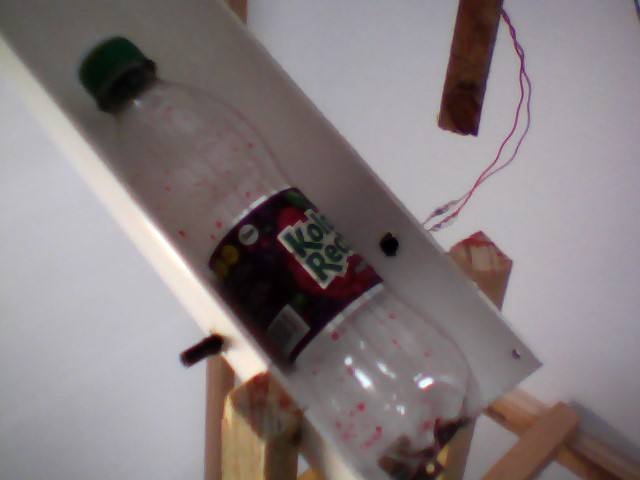plastico: (74, 37, 483, 480)
